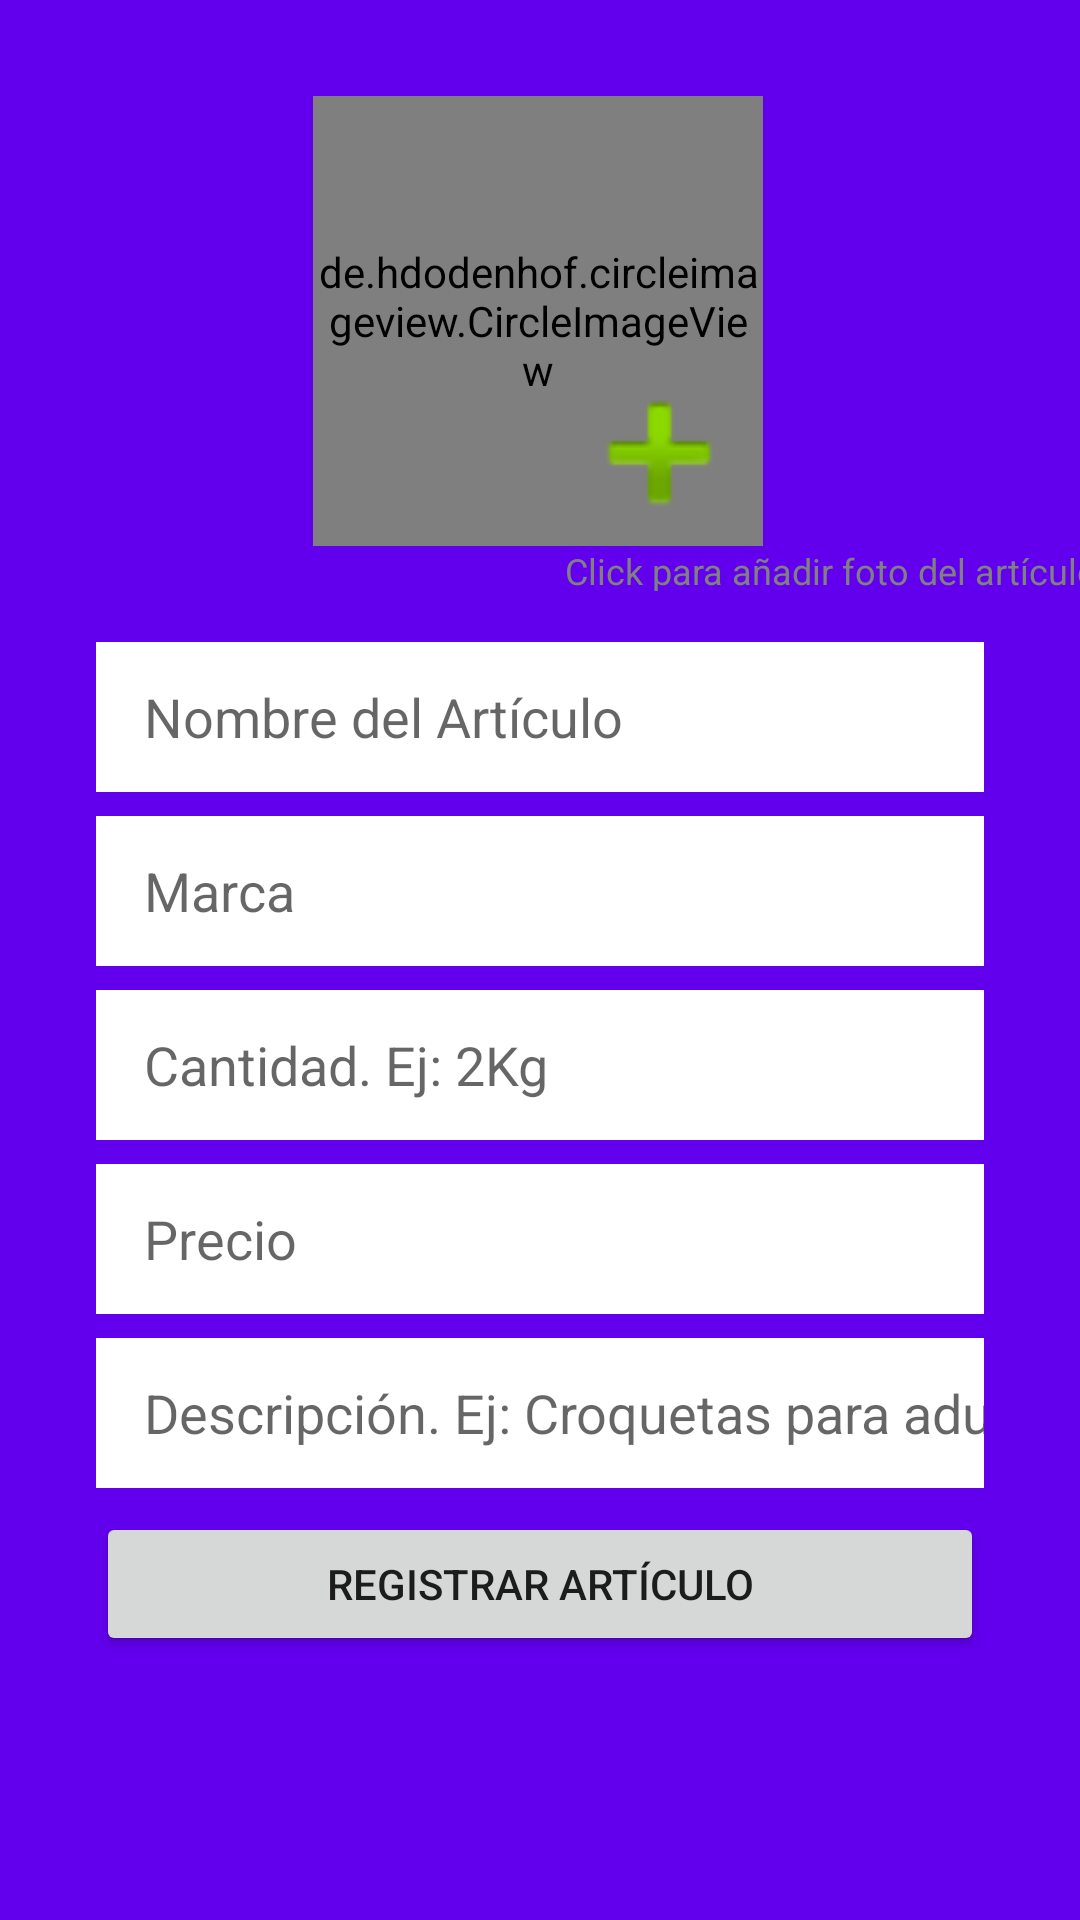

Icon click points for this 1080px x 1920px phone screenshot, format point (x, y):
add: point (659, 452)
